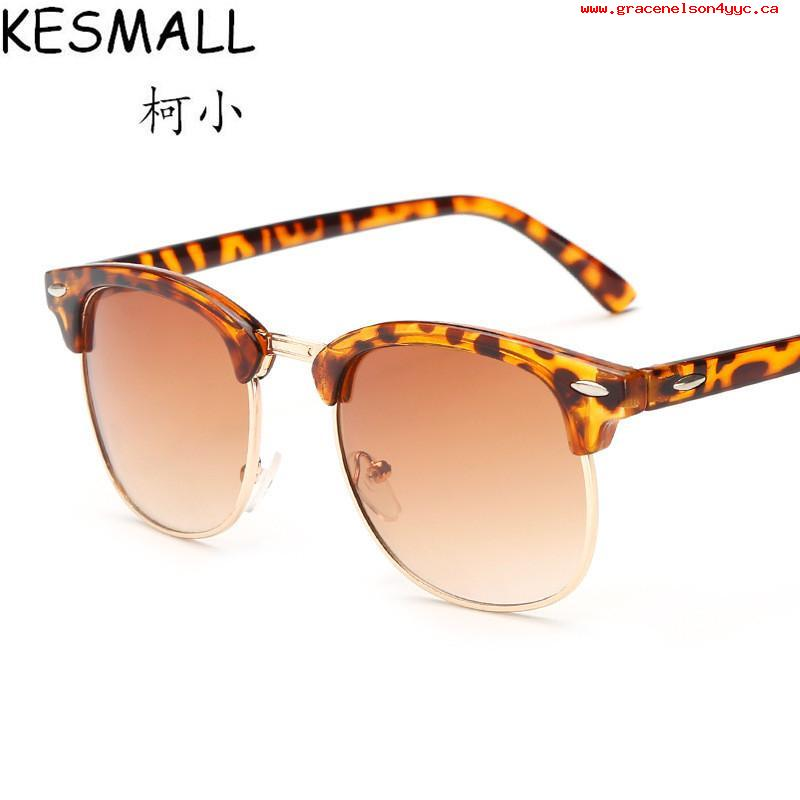sunglasses: (17, 199, 770, 614)
